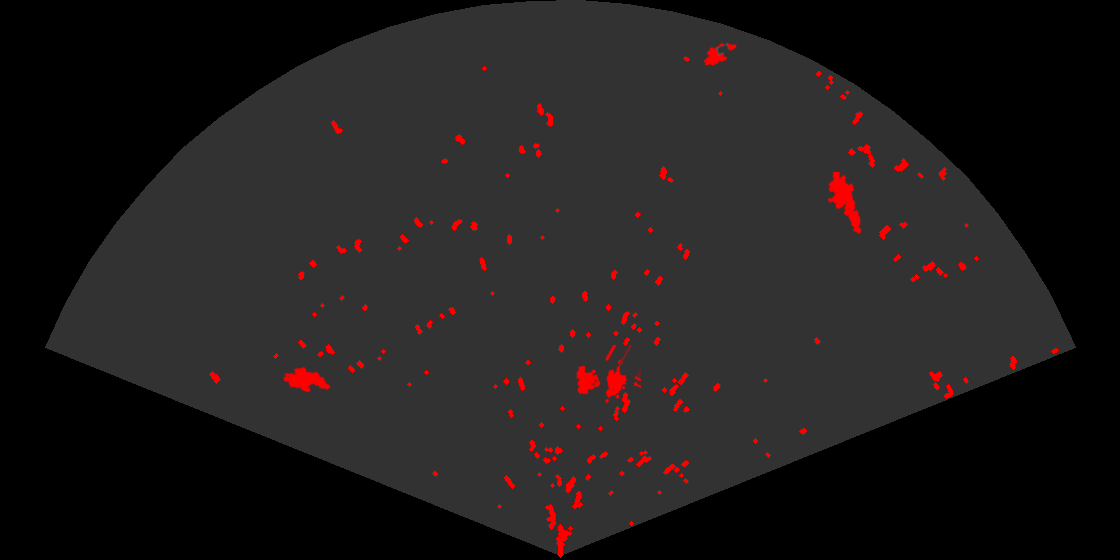AUV: (281, 365, 332, 394), (702, 41, 739, 68)
cage: (575, 345, 641, 405)
frogman: (826, 172, 863, 234)
